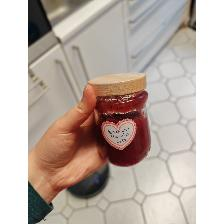Marmelade: (86, 72, 152, 168)
